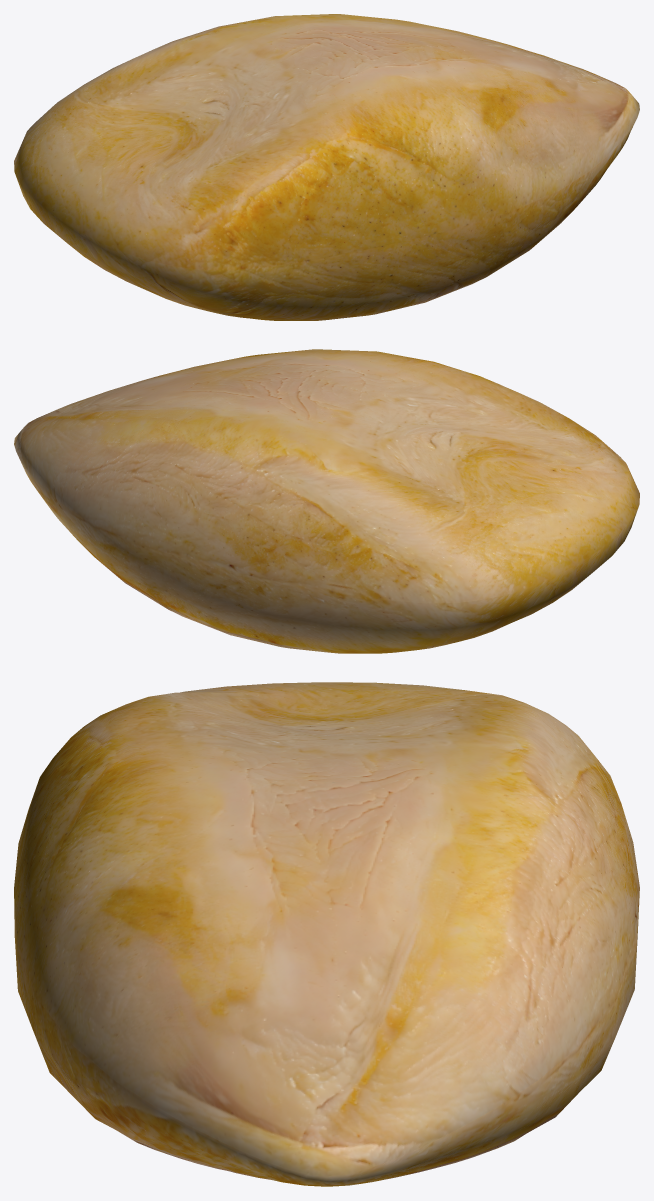
The model's file is chicken-cooked.glb.
3 views of the same model, one above another, from view 1: azimuth 30°, elevation 25°; view 2: azimuth 150°, elevation 25°; view 3: azimuth 270°, elevation 25° (orthographic). The views are drawn at different scales.
Parts seen in each view (by area): view 1: CookedChickenBreast; view 2: CookedChickenBreast; view 3: CookedChickenBreast.
Boxes of the visible parts, box(x1,y1,x2,y2) form: CookedChickenBreast: box(14, 14, 639, 320); CookedChickenBreast: box(14, 349, 639, 653); CookedChickenBreast: box(14, 682, 639, 1186).
Size of the model in its own units: 0.15 by 0.0533 by 0.0937.
Materials: 1 (1 with a texture image).
